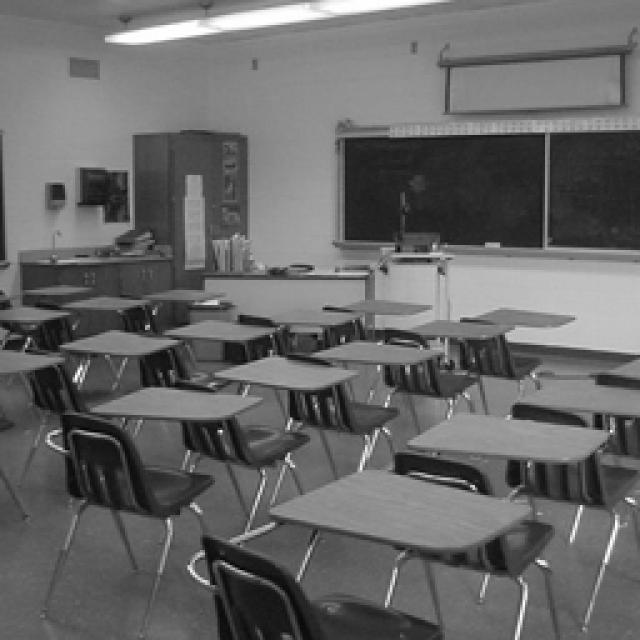Invader: (389, 159, 452, 275)
